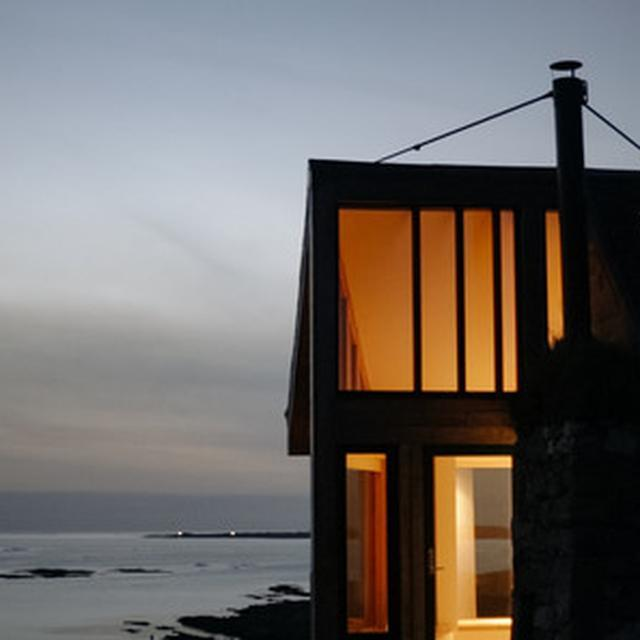building: (284, 54, 640, 640)
